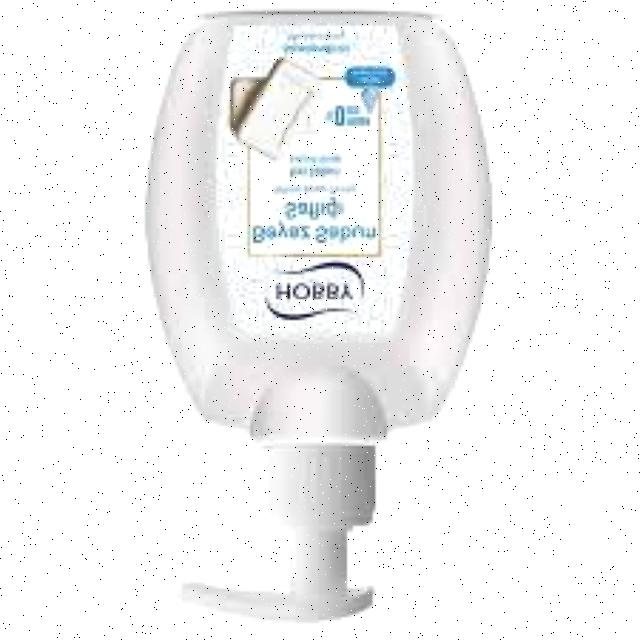liquid soap: (144, 7, 498, 630)
